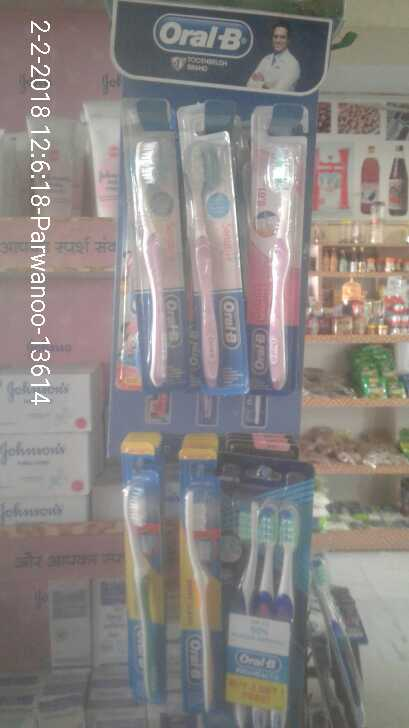oralb: (219, 457, 308, 726), (180, 112, 253, 391), (115, 127, 184, 391), (176, 451, 229, 720), (252, 105, 299, 389), (117, 434, 166, 705)
